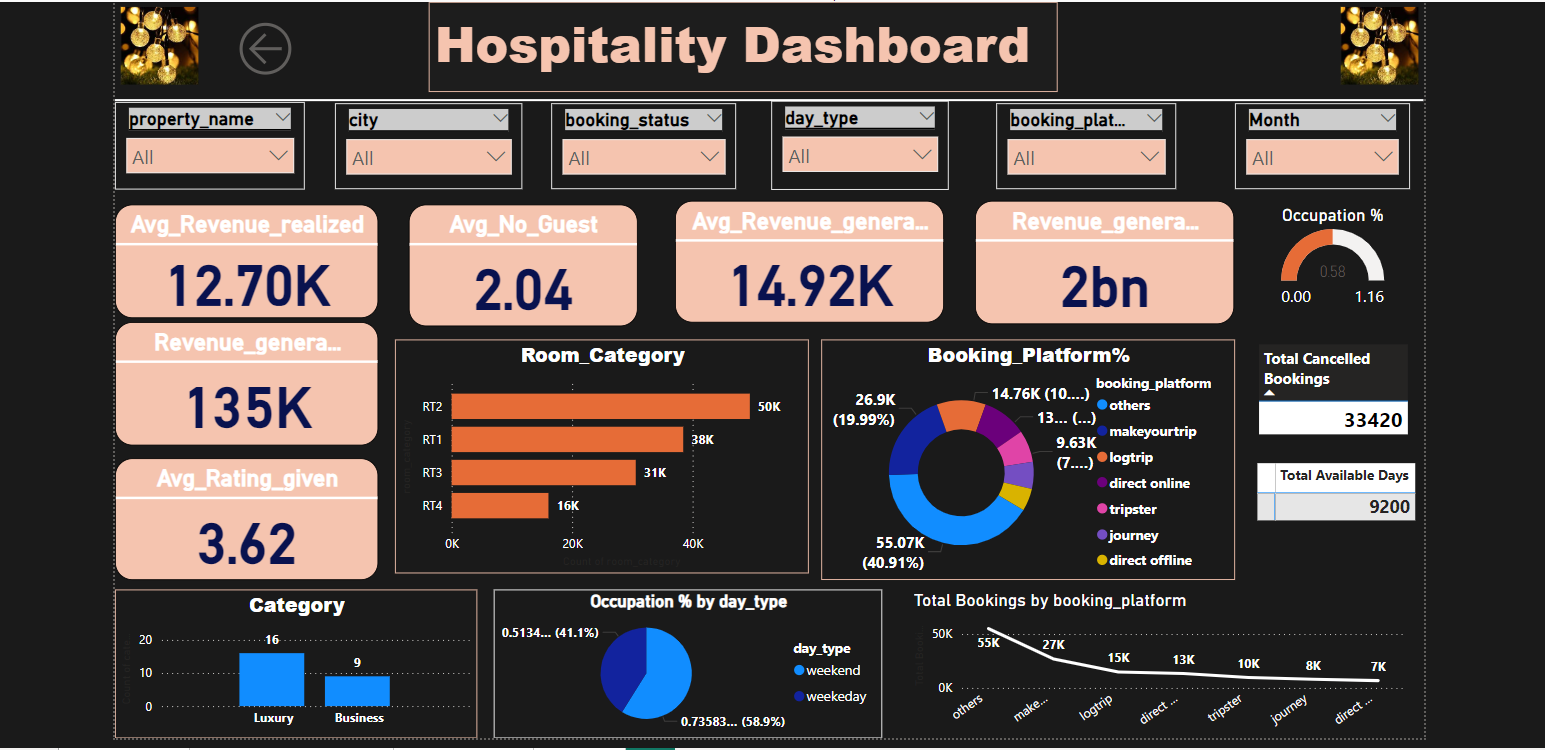

The page's visual inventory and layout, read from the dashboard file:
{"tool":"powerbi","page":{"name":"Hospitality_Dashboard","canvas":[1280,720],"ordinal":1},"visuals":[{"type":"image","box":[0,0,86.8,85.6],"z":0},{"type":"image","box":[1193.5,0,86.8,85.6],"z":1000},{"type":"card","title":"Avg_Revenue_realized","fields":{"Values":["Avg(fact_bookings.revenue_realized)"]},"box":[0,197.6,258,111.1],"z":2000},{"type":"card","title":"Avg_Revenue_genera...","fields":{"Values":["Avg(fact_bookings.revenue_generated)"]},"box":[547.5,194.9,263.5,119.4],"z":3000},{"type":"card","title":"Avg_No_Guest","fields":{"Values":["Avg(fact_bookings.no_guests)"]},"box":[286.8,197.6,223.7,119.4],"z":4000},{"type":"card","title":"Avg_Rating_given","fields":{"Values":["Avg(fact_bookings.ratings_given)"]},"box":[0,446,258,119.4],"z":5000},{"type":"clusteredBarChart","title":"Room_Category","fields":{"Category":["fact_bookings.room_category"],"Y":["CountNonNull(fact_bookings.room_category)"]},"box":[274.4,330.7,404.8,229.2],"z":6000},{"type":"textbox","box":[306.9,0,615.1,88],"z":7000},{"type":"slicer","fields":{"Values":["dim_hotels.city"]},"box":[215.2,99,183.4,84.4],"z":8000},{"type":"slicer","fields":{"Values":["fact_bookings.booking_status"]},"box":[426.8,99,181,84.4],"z":9000},{"type":"slicer","fields":{"Values":["dim_date.date.Variation.Date Hierarchy.Month"]},"box":[1095.7,99,171.2,84.4],"z":10000},{"type":"slicer","fields":{"Values":["dim_hotels.property_name"]},"box":[0,97.8,185.9,85.6],"z":11000},{"type":"slicer","fields":{"Values":["dim_date.day_type"]},"box":[642,96.6,173.6,86.8],"z":12000},{"type":"slicer","fields":{"Values":["fact_bookings.booking_platform"]},"box":[862.1,99,176.1,84.4],"z":13000},{"type":"shape","box":[0,78.3,1280.3,35.5],"z":14000},{"type":"columnChart","title":"Category","fields":{"Category":["dim_hotels.category"],"Y":["CountNonNull(dim_hotels.category)"]},"box":[0,575,354,145.5],"z":15000},{"type":"actionButton","box":[115.3,13.7,82.3,64.5],"z":16000},{"type":"card","title":"Revenue_genera...","fields":{"Values":["Sum(fact_bookings.revenue_realized)"]},"box":[841.2,194.9,253.9,120.8],"z":17000},{"type":"donutChart","title":"Booking_Platform%","fields":{"Category":["fact_bookings.booking_platform"],"Y":["CountNonNull(fact_bookings.booking_platform)"]},"box":[691.3,330.7,404.8,235.2],"z":18000},{"type":"card","title":"Revenue_genera...","fields":{"Values":["fact_bookings.Total Successful Bookings"]},"box":[0,312.9,258,120.8],"z":19000},{"type":"pieChart","fields":{"Y":["fact_bookings.Occupation %"],"Category":["dim_date.day_type"]},"box":[370.5,575,380.1,145.5],"z":20000},{"type":"lineChart","fields":{"Category":["fact_bookings.booking_platform"],"Y":["fact_bookings.Total Bookings"]},"box":[776.7,575,489.9,145.5],"z":21000},{"type":"gauge","fields":{"Y":["fact_bookings.Occupation %"]},"box":[1103.3,198.1,176.7,111.2],"z":22000},{"type":"tableEx","fields":{"Values":["fact_bookings.Total Cancelled Bookings"]},"box":[1113.2,330.7,166.8,116.9],"z":23000},{"type":"pivotTable","fields":{"Values":["fact_bookings.Total Available Days"]},"box":[1113.2,446.1,166.8,78.4],"z":24000}]}

Visuals, with their boxes on the page's 1280x720 design canvas (x1, y1, x2, y2). These are canvas units, not pixel positions in the 1545x750 screenshot, which may show the page scaled, cropped or inside an application window:
image: bbox(0, 0, 87, 86)
image: bbox(1194, 0, 1280, 86)
"Avg_Revenue_realized" card: bbox(0, 198, 258, 309)
"Avg_Revenue_genera..." card: bbox(548, 195, 811, 314)
"Avg_No_Guest" card: bbox(287, 198, 510, 317)
"Avg_Rating_given" card: bbox(0, 446, 258, 565)
"Room_Category" clusteredBarChart: bbox(274, 331, 679, 560)
textbox: bbox(307, 0, 922, 88)
slicer - dim_hotels.city: bbox(215, 99, 399, 183)
slicer - fact_bookings.booking_status: bbox(427, 99, 608, 183)
slicer - dim_date.date.Variation.Date Hierarchy.Month: bbox(1096, 99, 1267, 183)
slicer - dim_hotels.property_name: bbox(0, 98, 186, 183)
slicer - dim_date.day_type: bbox(642, 97, 816, 183)
slicer - fact_bookings.booking_platform: bbox(862, 99, 1038, 183)
shape: bbox(0, 78, 1280, 114)
"Category" columnChart: bbox(0, 575, 354, 720)
actionButton: bbox(115, 14, 198, 78)
"Revenue_genera..." card: bbox(841, 195, 1095, 316)
"Booking_Platform%" donutChart: bbox(691, 331, 1096, 566)
"Revenue_genera..." card: bbox(0, 313, 258, 434)
pieChart - fact_bookings.Occupation % x dim_date.day_type: bbox(370, 575, 751, 720)
lineChart - fact_bookings.booking_platform x fact_bookings.Total Bookings: bbox(777, 575, 1267, 720)
gauge - fact_bookings.Occupation %: bbox(1103, 198, 1280, 309)
tableEx - fact_bookings.Total Cancelled Bookings: bbox(1113, 331, 1280, 448)
pivotTable - fact_bookings.Total Available Days: bbox(1113, 446, 1280, 524)
